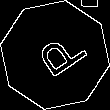P_SW: (24, 25, 86, 85)
